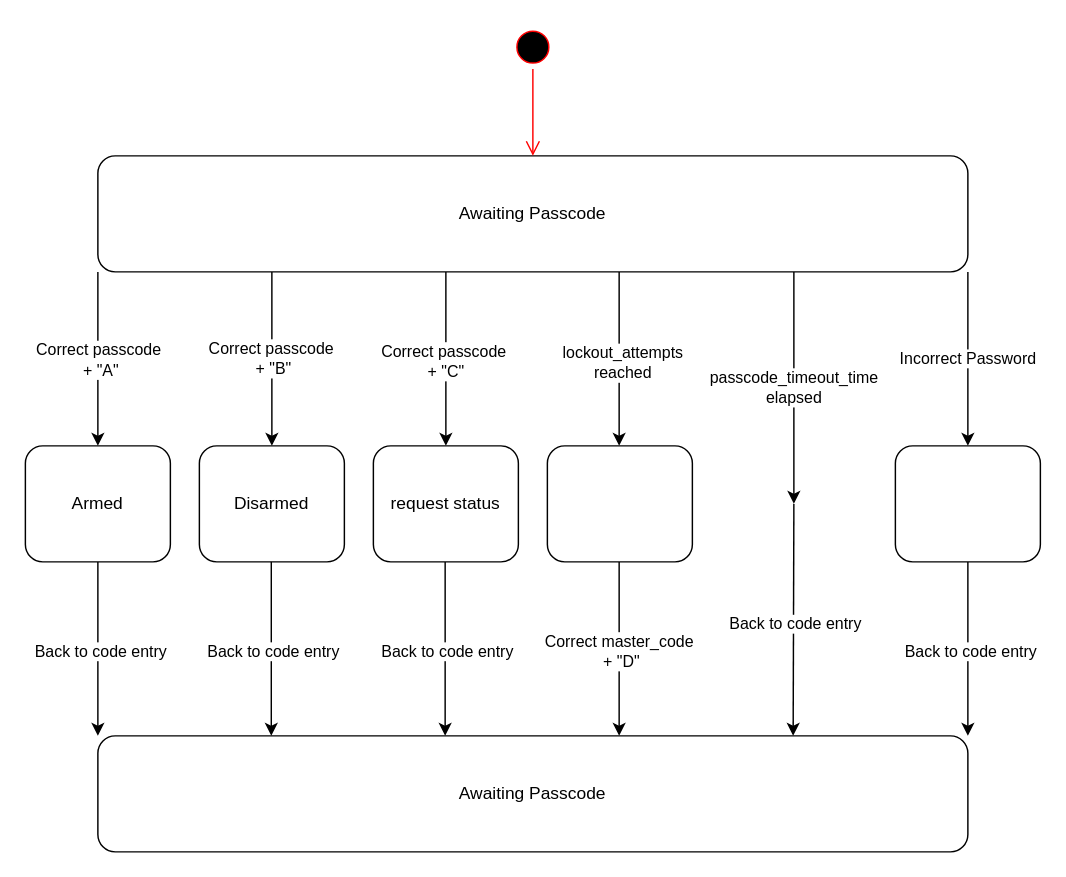
Image size: 1066x877. Some labels were removed from this diagram. The shapes that lost their labels are listed below. From the top down, each one's centre as x and y in pixels, then its label:
At (x=619, y=503): "Lockdown".
At (x=967, y=503): "Increment passcode attempt counter".
